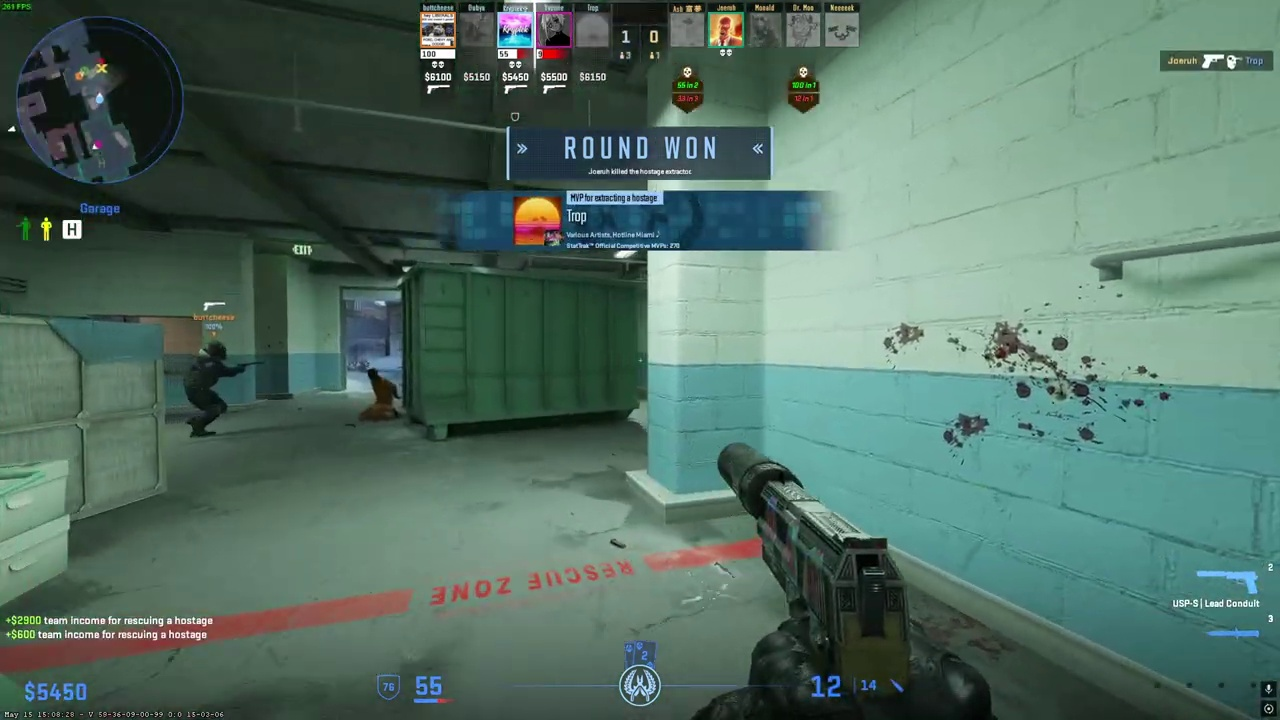CT: (184, 341, 236, 438)
